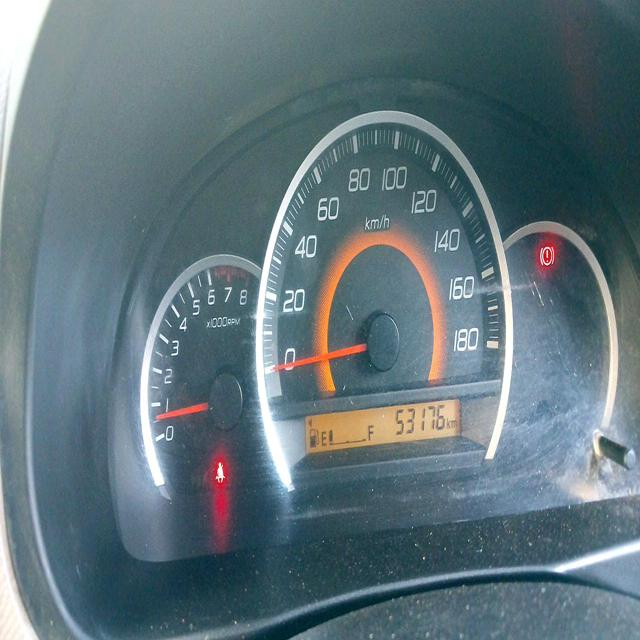odometer: (395, 402, 445, 440)
